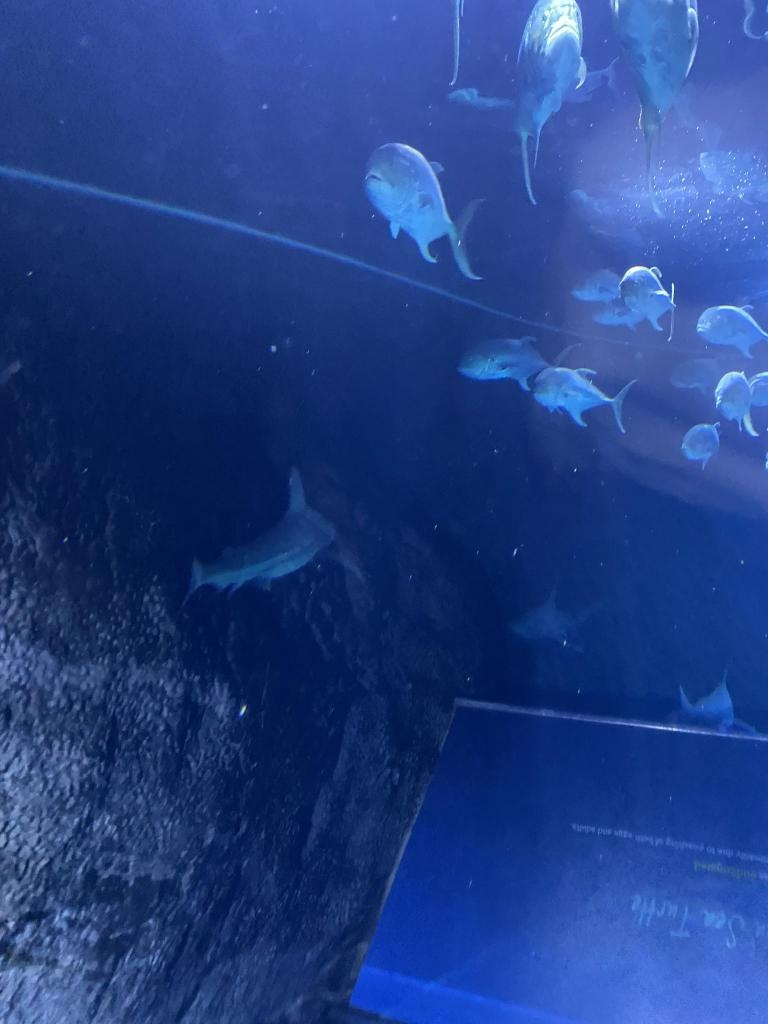fish: (364, 142, 486, 280), (609, 0, 700, 165), (515, 2, 587, 208), (534, 366, 638, 434), (458, 335, 582, 391), (620, 266, 678, 342), (696, 305, 768, 359), (716, 370, 760, 436), (669, 355, 727, 397), (680, 421, 722, 471), (592, 298, 646, 332), (570, 269, 620, 303)
shark: (179, 468, 367, 606), (508, 582, 598, 654), (670, 671, 762, 737)
